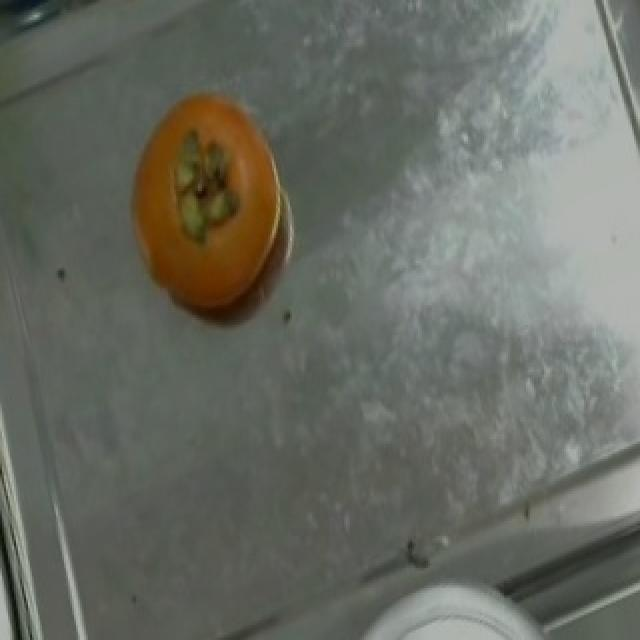Fruit: (108, 77, 306, 332), (348, 598, 562, 637)
